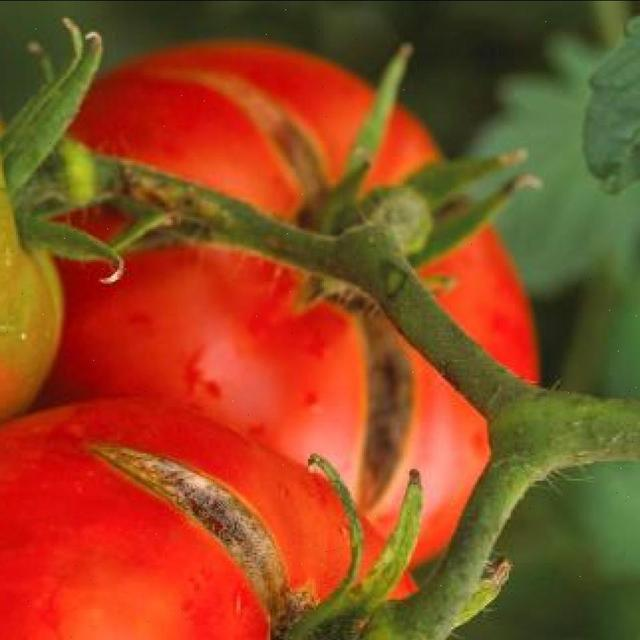Cracking Fruit: (35, 284, 215, 427)
